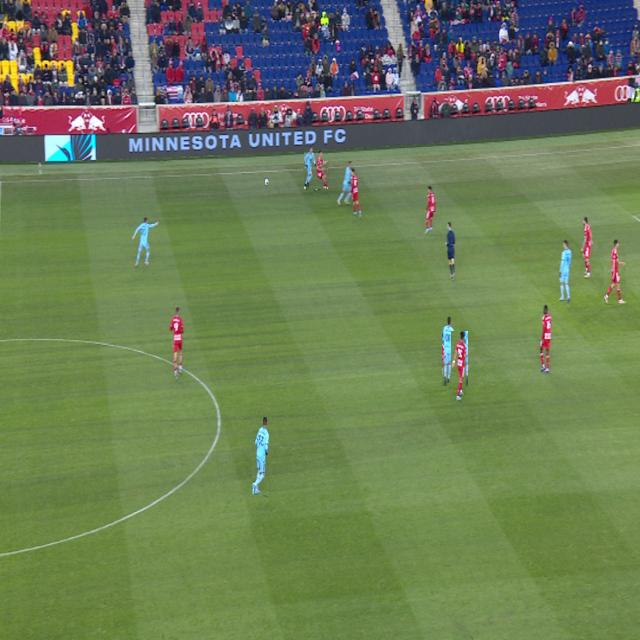football: (265, 178, 269, 185)
player: (604, 239, 626, 304), (132, 217, 159, 267), (252, 418, 269, 495), (452, 332, 468, 401), (170, 307, 184, 380), (539, 305, 552, 373), (443, 316, 455, 386), (559, 240, 572, 303), (580, 217, 593, 278), (337, 160, 352, 205), (350, 169, 362, 218), (424, 186, 436, 234), (305, 147, 316, 190), (317, 151, 328, 189)
referee: (445, 222, 455, 279)
